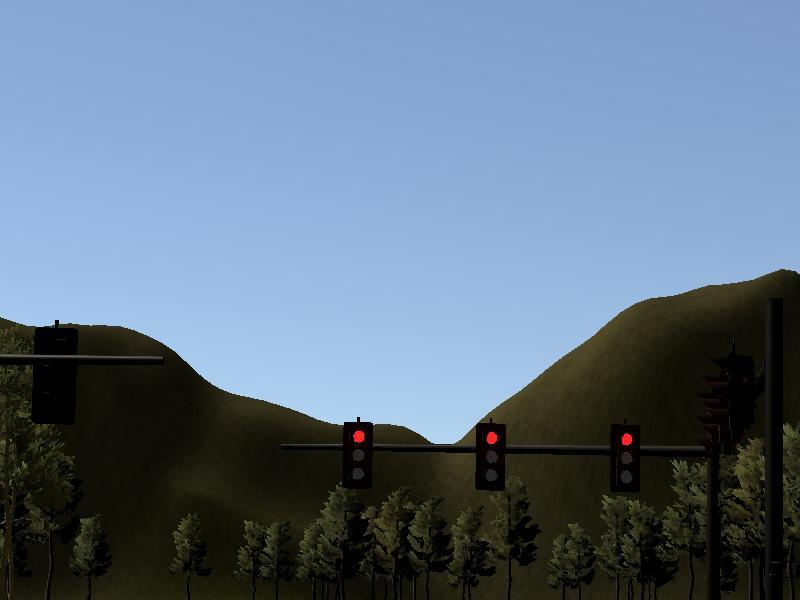Red: (344, 422, 375, 487), (612, 426, 641, 492), (479, 425, 506, 490)
